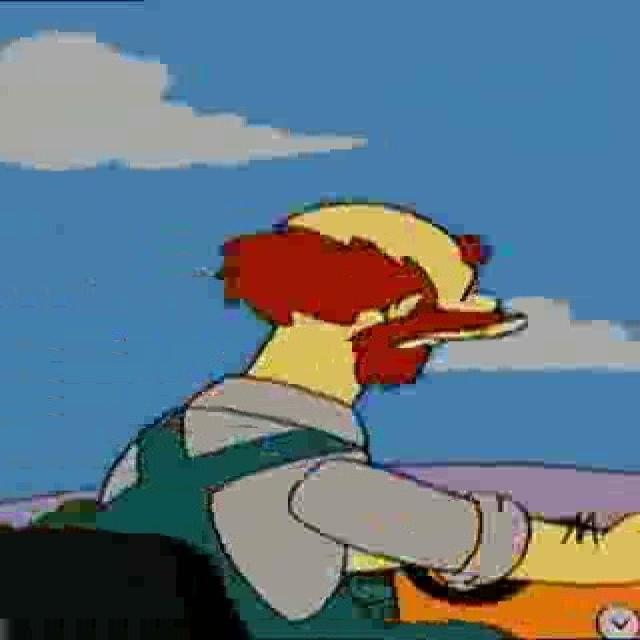Groundskeeper Willie: (217, 198, 531, 406)
